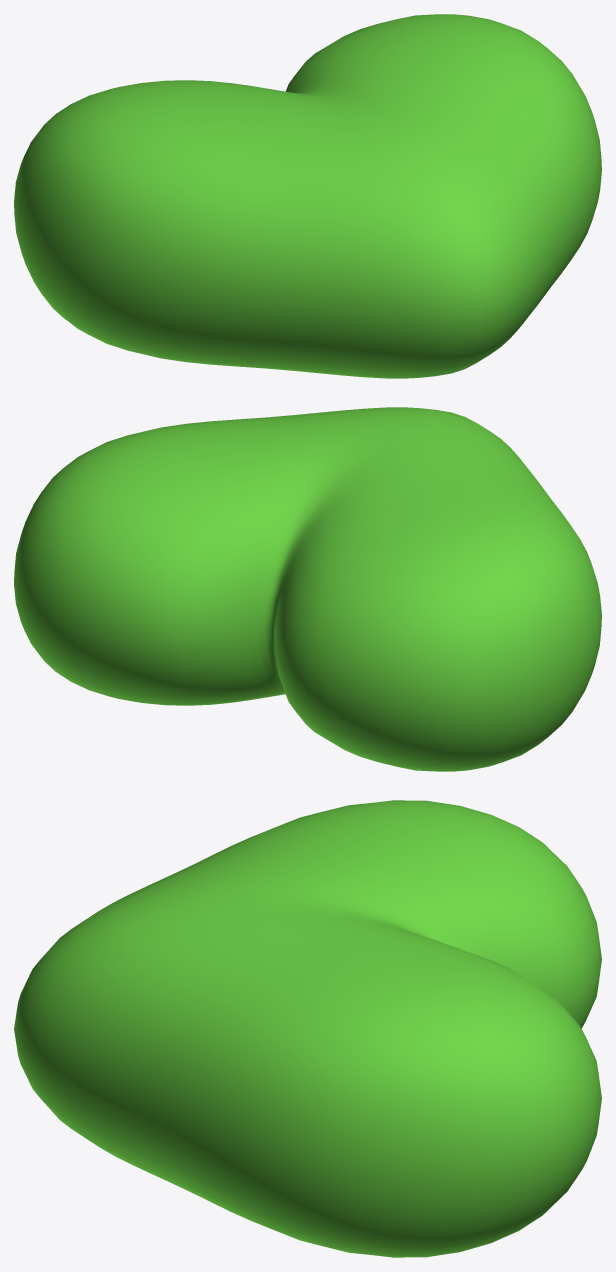
File: Heart.fbx
3 renders of one model, top to bottom at view 1: azimuth 30°, elevation 25°; view 2: azimuth 150°, elevation 25°; view 3: azimuth 270°, elevation 25°, orthographic. The views are drawn at different scales.
Parts seen in each view (by area): view 1: Heart; view 2: Heart; view 3: Heart.
Boxes of the visible parts, box(x1,y1,x2,y2) form: Heart: box(14, 14, 601, 378); Heart: box(14, 407, 601, 771); Heart: box(14, 800, 601, 1257).
Bounding box in the file's own units: 175 × 72.12 × 149.
